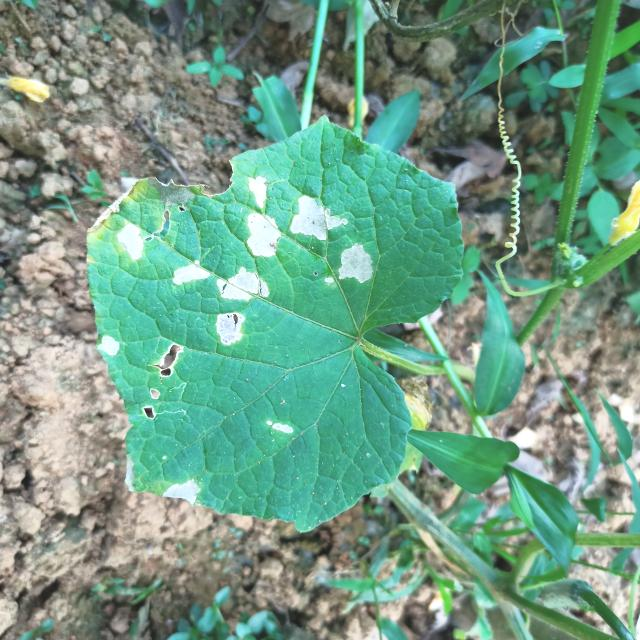disease_cucumber: (170, 260, 270, 349), (141, 337, 184, 423), (243, 175, 280, 262), (287, 194, 349, 243), (319, 239, 377, 291), (118, 222, 146, 270), (164, 476, 209, 505), (96, 331, 122, 364), (265, 417, 296, 438)
